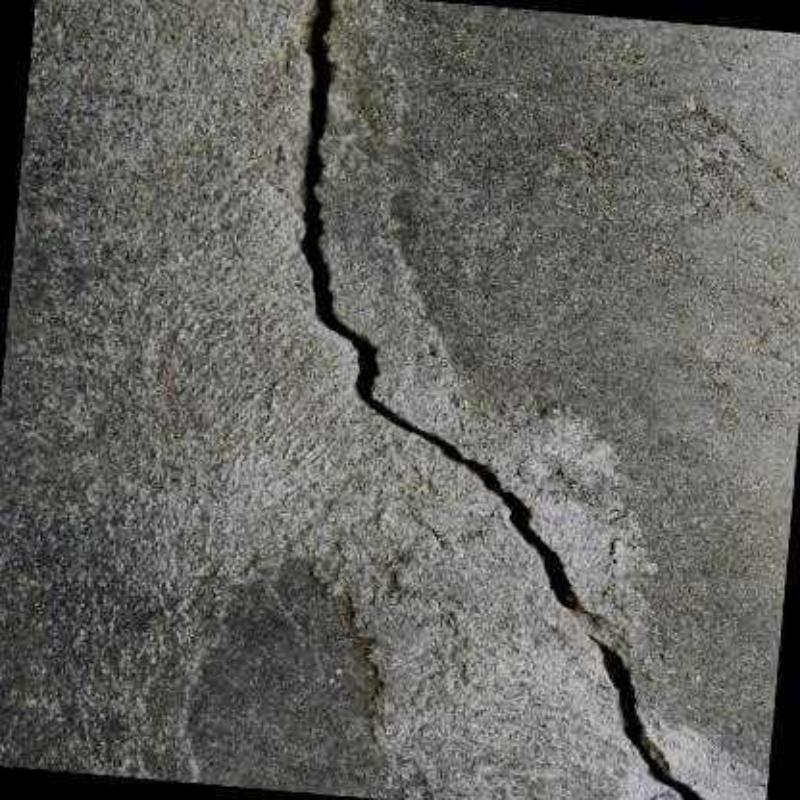pothole: (290, 0, 704, 800)
